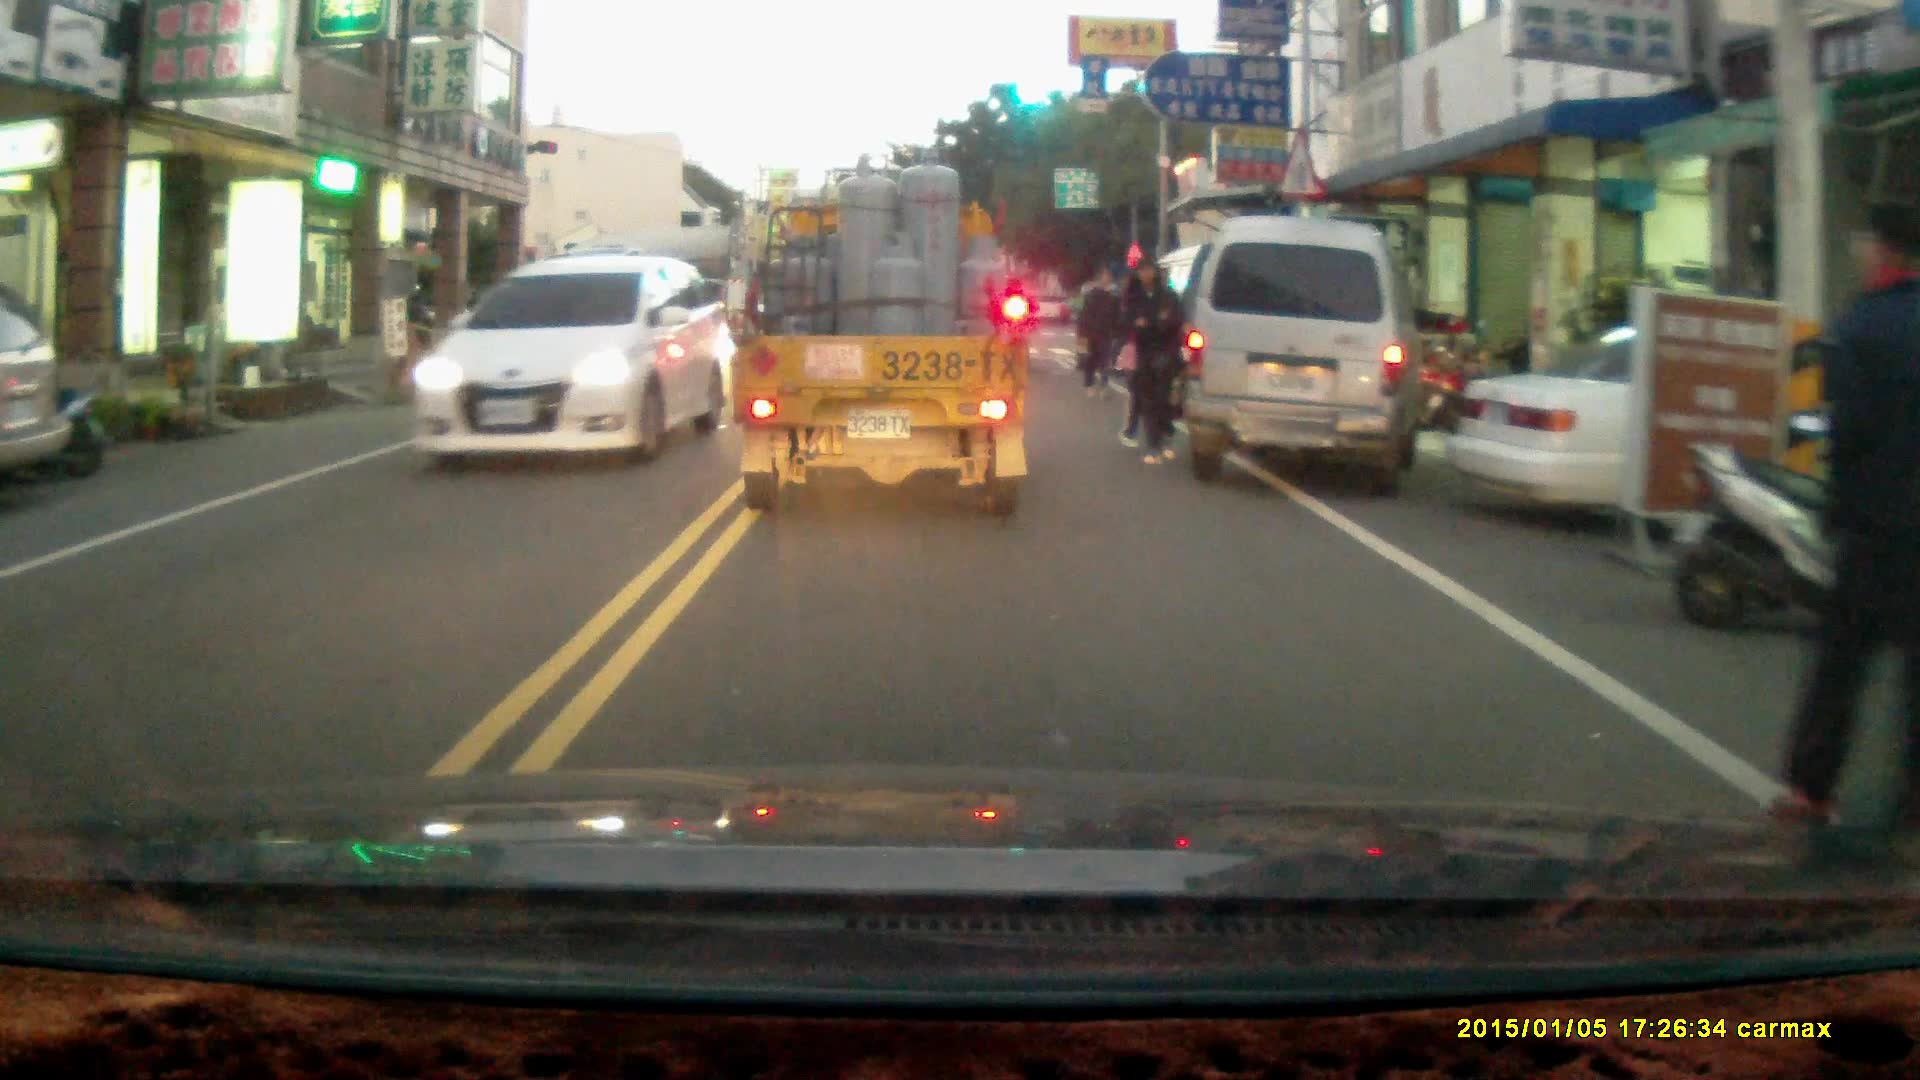pedestrian: (1761, 196, 1920, 855), (1118, 254, 1179, 465), (1076, 260, 1126, 399)
vehicle: (723, 147, 1030, 515), (1437, 319, 1920, 548), (1178, 209, 1427, 487), (411, 251, 714, 459), (1, 278, 79, 471)
